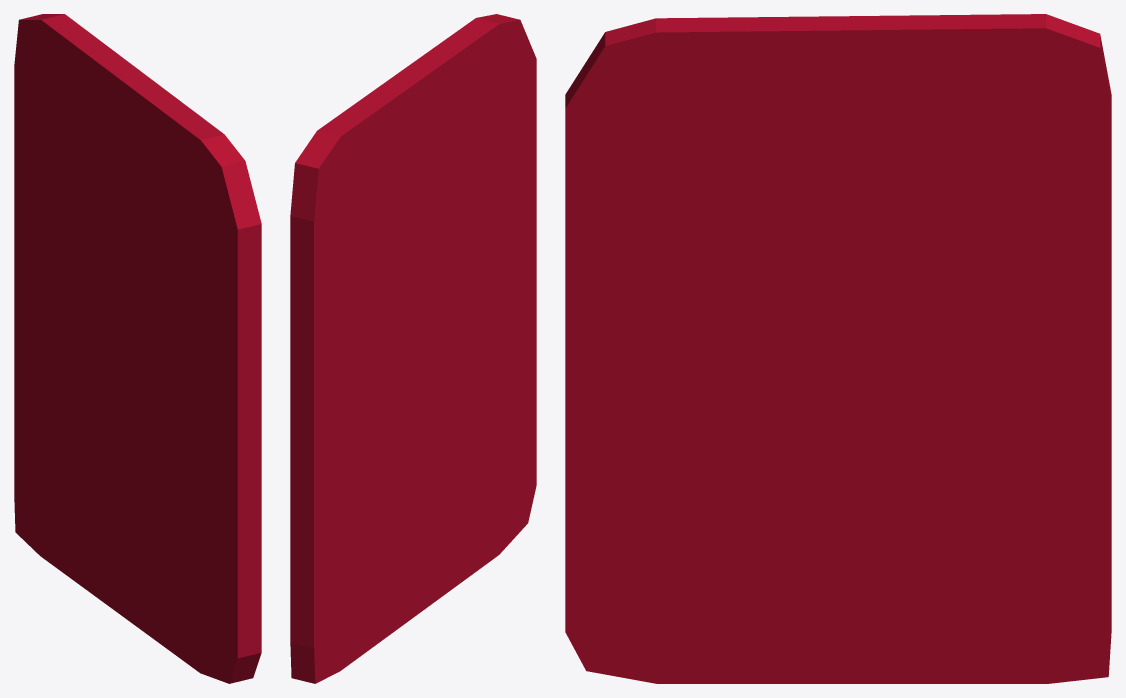
Rendered from phone.fbx.
The picture shows the model from 3 angles, left to right: view 1: azimuth 30°, elevation 25°; view 2: azimuth 150°, elevation 25°; view 3: azimuth 270°, elevation 25°; orthographic projection. The views are drawn at different scales.
Parts seen in each view (by area): view 1: Cube; view 2: Cube; view 3: Cube.
Boxes of the visible parts, x1,y1,x2,y2 form: Cube: [14, 14, 261, 683]; Cube: [290, 14, 536, 683]; Cube: [565, 14, 1111, 683].
Bounding box in the file's own units: 23.35 × 501 × 378.
